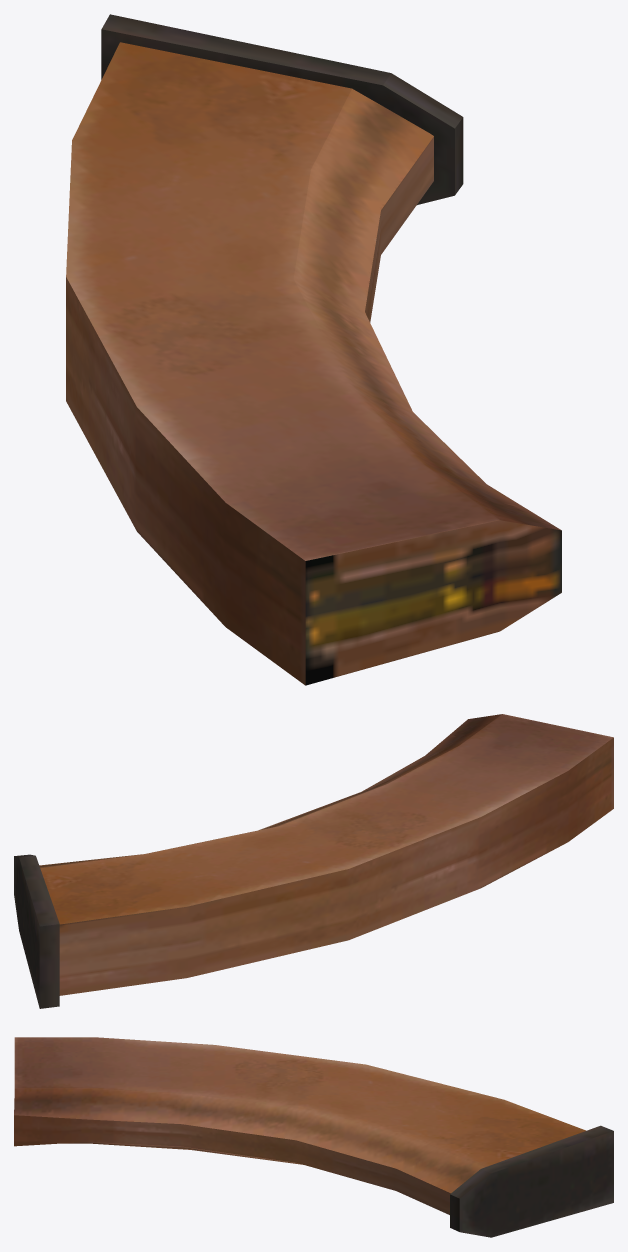
File: weapon_ak74u_clip_LOD0.obj
3 views of the same model, one above another, from view 1: azimuth 30°, elevation 25°; view 2: azimuth 150°, elevation 25°; view 3: azimuth 270°, elevation 25° (orthographic). The views are drawn at different scales.
Visible parts, largest first — view 1: mtl_weapon_ak74u_misc_nocamo; view 2: mtl_weapon_ak74u_misc_nocamo; view 3: mtl_weapon_ak74u_misc_nocamo.
Boxes of the visible parts, x1,y1,x2,y2 form: mtl_weapon_ak74u_misc_nocamo: (66, 14, 561, 685); mtl_weapon_ak74u_misc_nocamo: (14, 714, 613, 1008); mtl_weapon_ak74u_misc_nocamo: (14, 1037, 613, 1237).
Bounding box in the file's own units: 14.75 × 3.36 × 25.43.
1 material, 1 textured.
